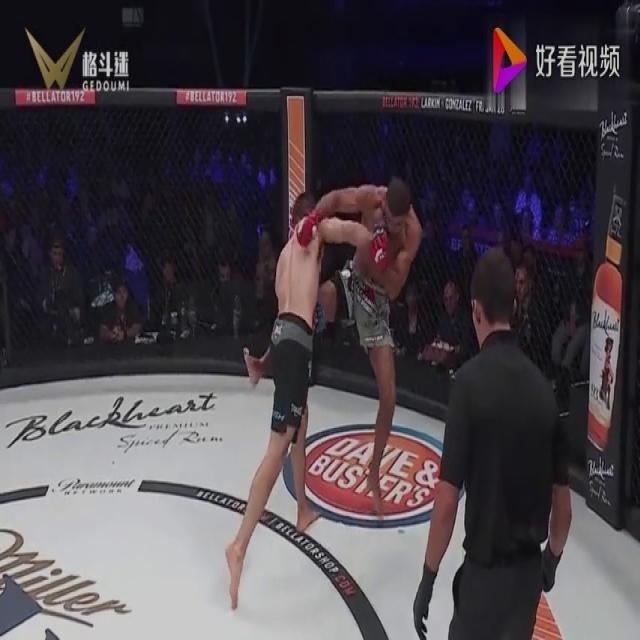fight: (222, 160, 425, 618)
non-fight: (413, 248, 577, 639)
